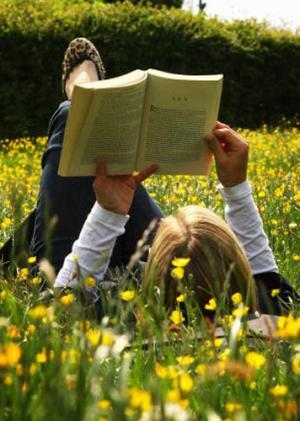person: (29, 38, 300, 322)
